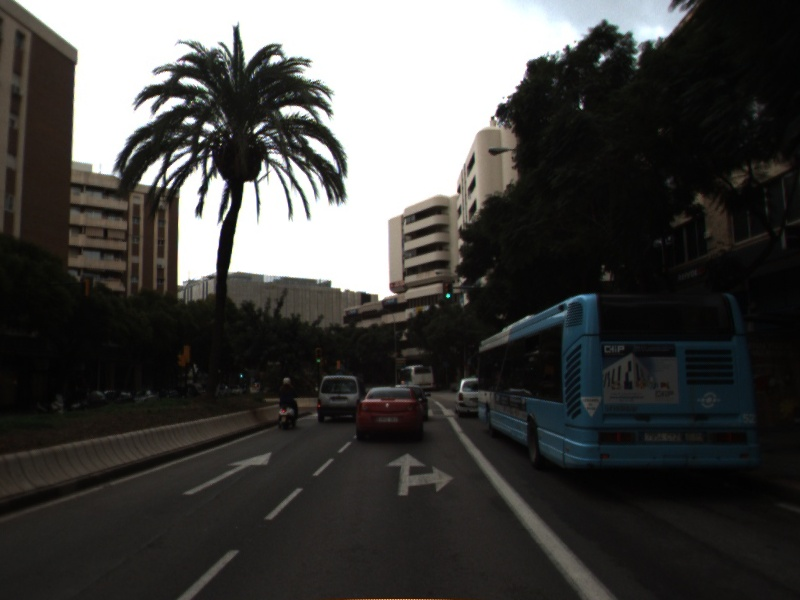STRAIGHT: (180, 450, 274, 497)
STRAIGHT_RIGHT: (383, 451, 457, 498)
